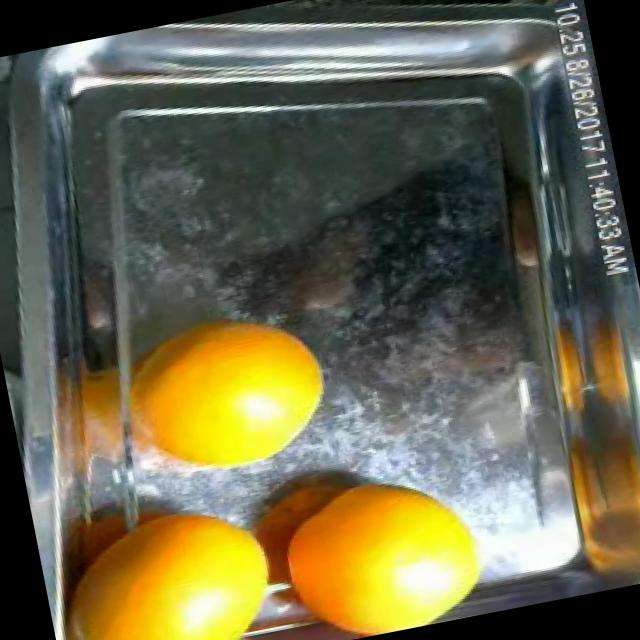Fruit: (112, 282, 360, 502)
